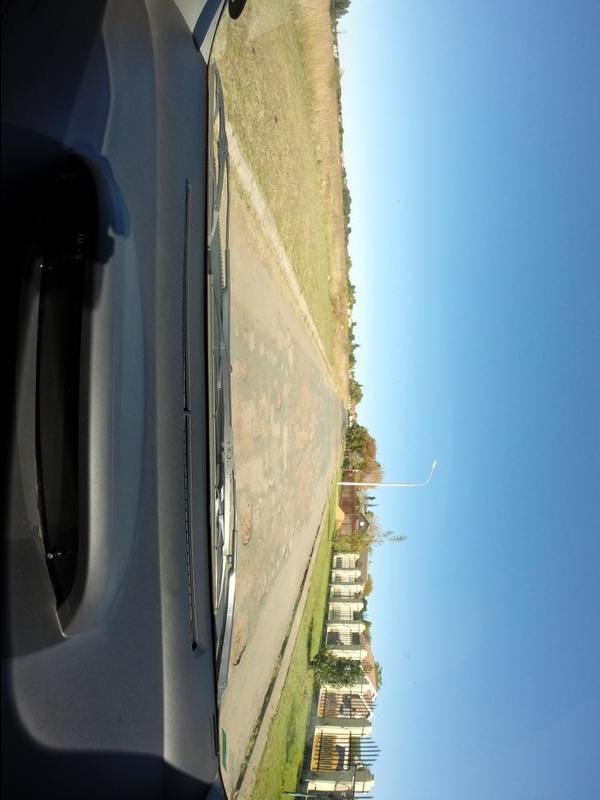pothole: (230, 605, 255, 682), (234, 494, 260, 559), (268, 391, 287, 417), (233, 355, 250, 380)
